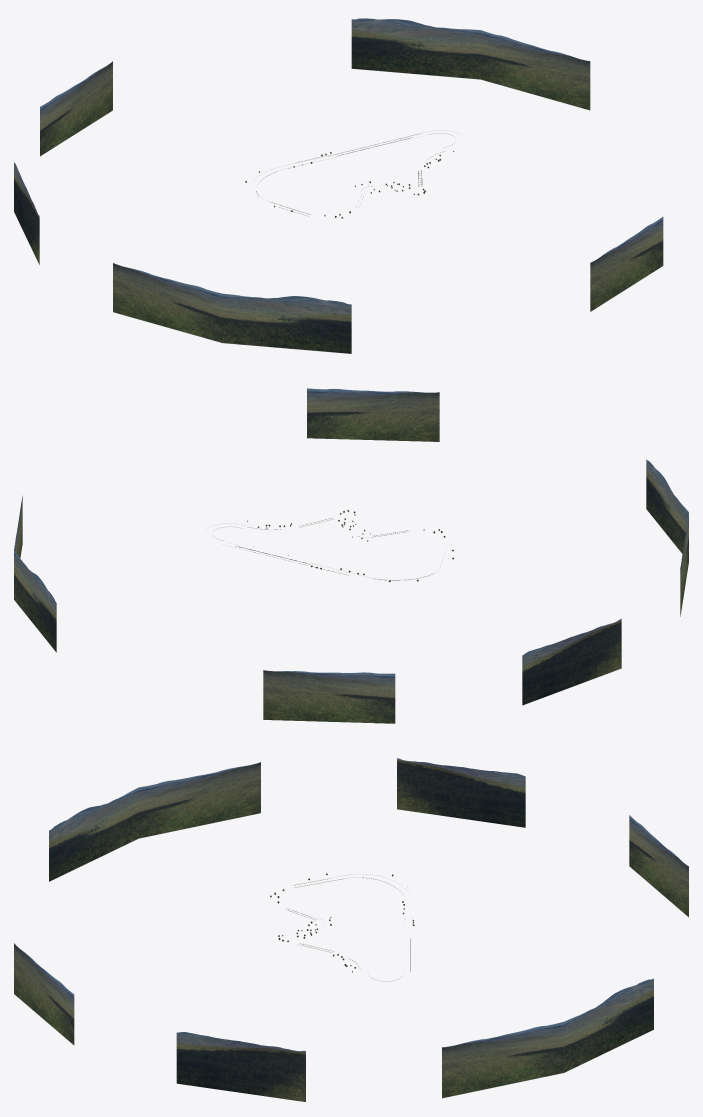
The picture shows the model from 3 angles, top to bottom: view 1: azimuth 30°, elevation 25°; view 2: azimuth 150°, elevation 25°; view 3: azimuth 270°, elevation 25°; orthographic projection. The views are drawn at different scales.
Parts seen in each view (by area): view 1: highspeedring2_2; view 2: highspeedring2_2; view 3: highspeedring2_2.
Part boxes in pixels (bbox=[...]): highspeedring2_2: bbox=[14, 18, 663, 353]; highspeedring2_2: bbox=[14, 388, 688, 723]; highspeedring2_2: bbox=[14, 758, 688, 1101].
Bounding box in the file's own units: 3985 × 364 × 3883.
Materials: 24 (24 with a texture image).
